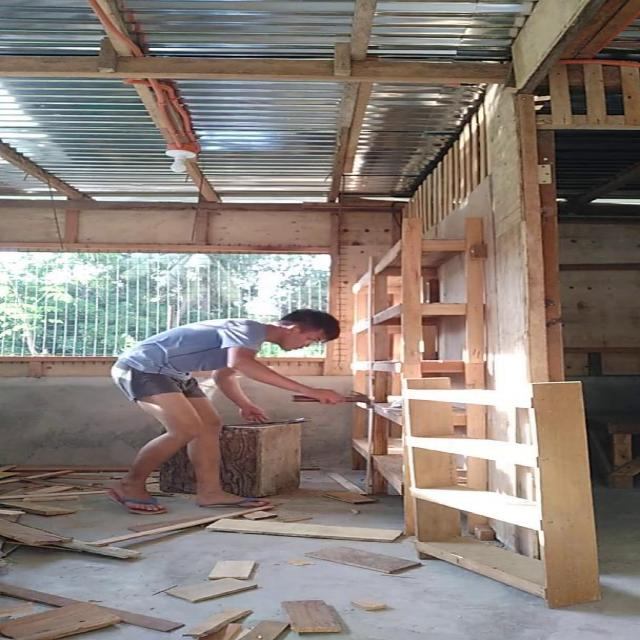hammer: (292, 389, 374, 408)
